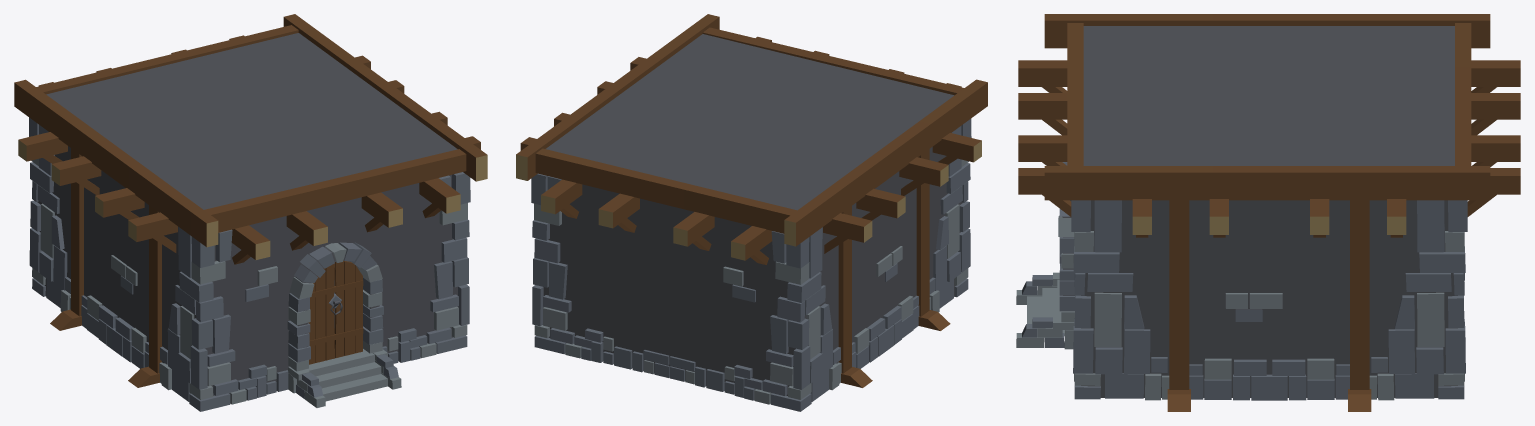
The model's file is House_4.glb.
3 renders of one model, left to right at view 1: azimuth 30°, elevation 25°; view 2: azimuth 150°, elevation 25°; view 3: azimuth 270°, elevation 25°, orthographic. The views are drawn at different scales.
Parts seen in each view (by area): view 1: House_4; view 2: House_4; view 3: House_4.
Boxes of the visible parts, box(x1,y1,x2,y2) form: House_4: box(14, 14, 487, 411); House_4: box(516, 14, 987, 411); House_4: box(1016, 14, 1520, 411).
Bounding box in the file's own units: 1.94 × 1.07 × 2.12.
